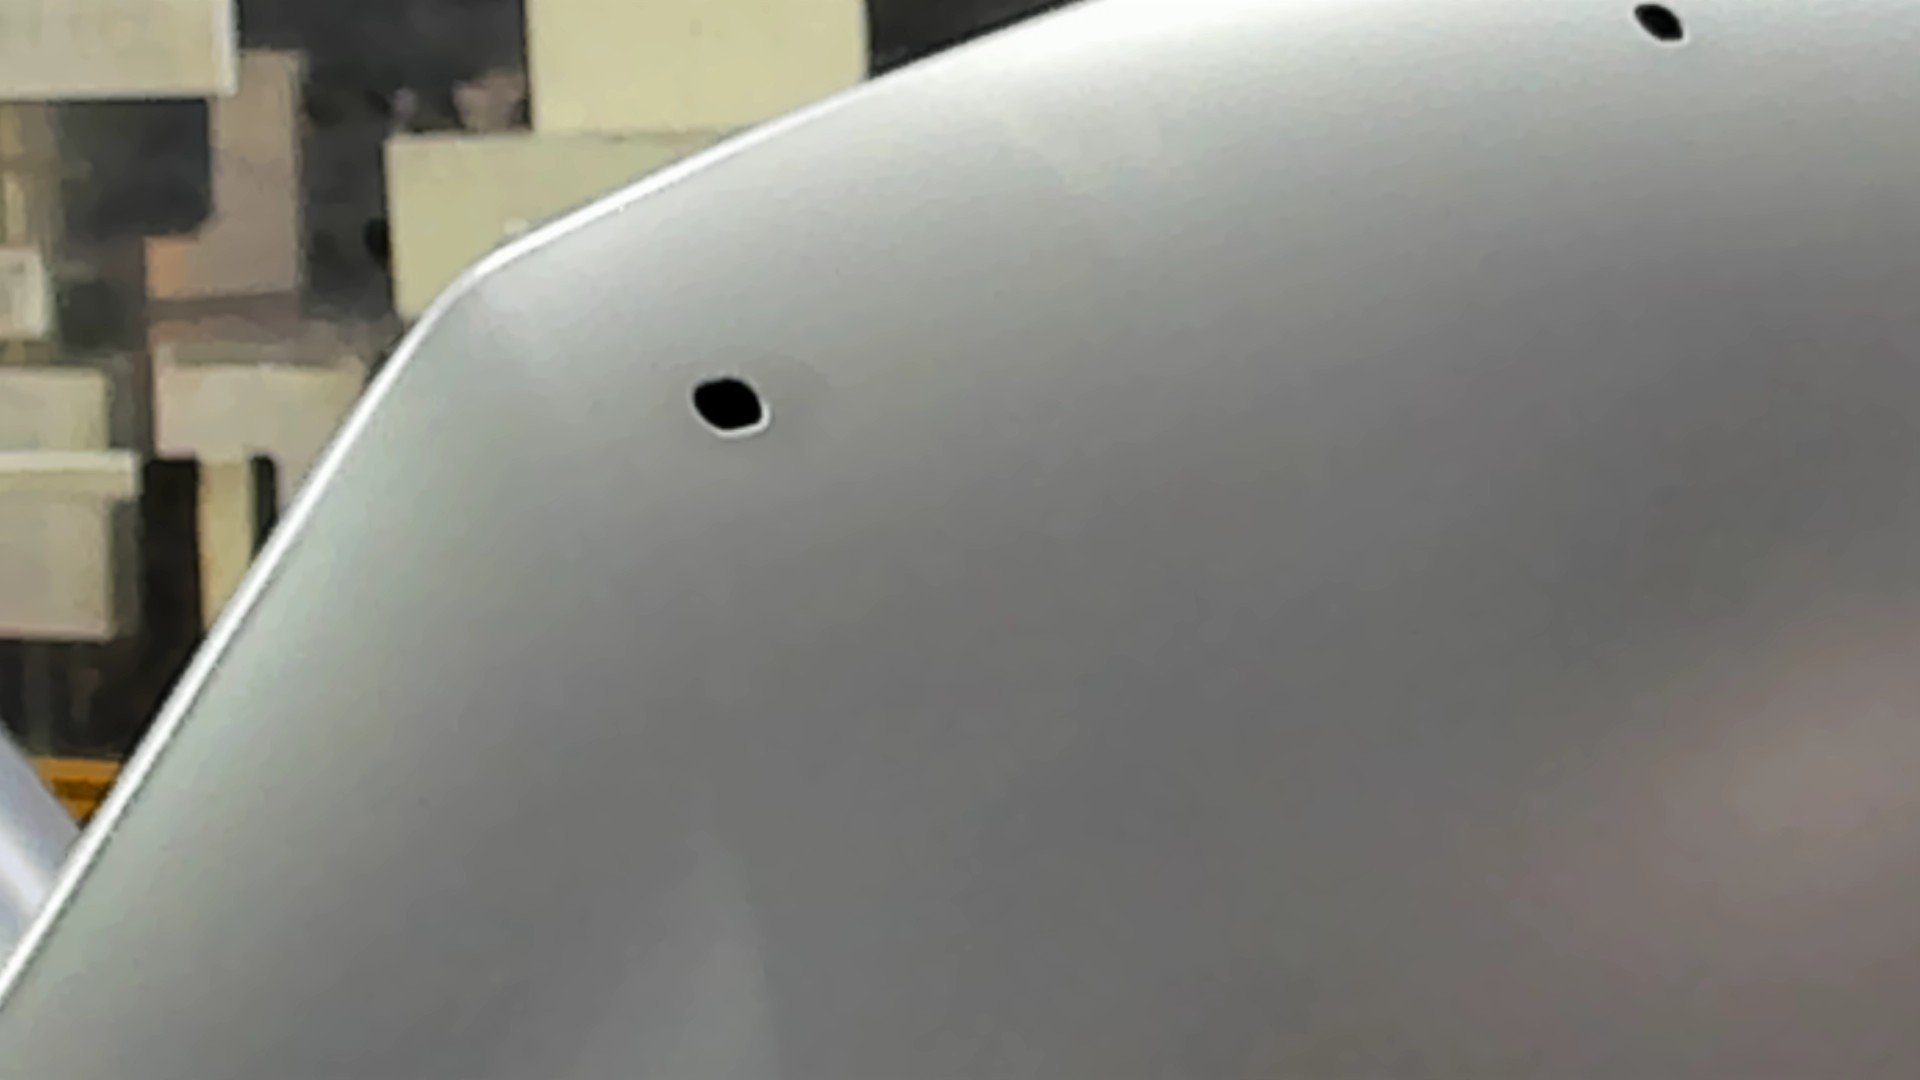amorfo: (682, 372, 774, 440), (1621, 1, 1693, 49)
